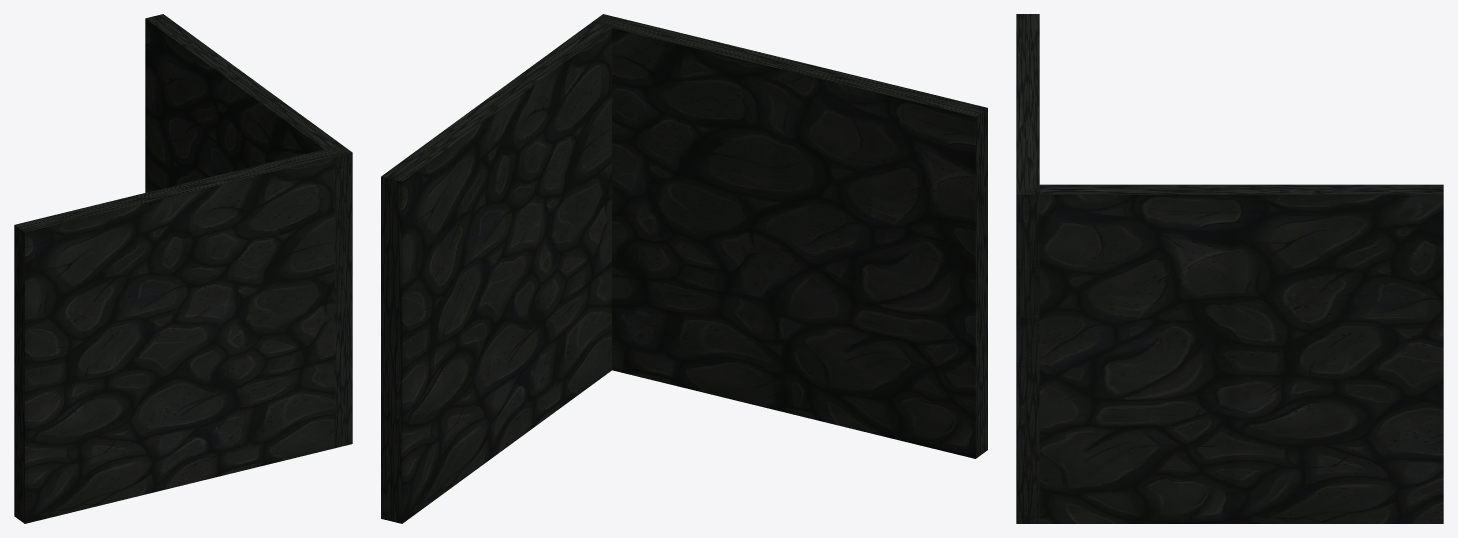
The model's file is stone_corner_outer_90.glb.
3 renders of one model, left to right at view 1: azimuth 30°, elevation 25°; view 2: azimuth 150°, elevation 25°; view 3: azimuth 270°, elevation 25°, orthographic. The views are drawn at different scales.
Parts seen in each view (by area): view 1: stone_corner_outer_90, _MeshInstance3D_2507; view 2: stone_corner_outer_90, _MeshInstance3D_2507; view 3: _MeshInstance3D_2507, stone_corner_outer_90.
Part boxes in pixels (bbox=[...]): stone_corner_outer_90: bbox=[14, 145, 351, 523]; _MeshInstance3D_2507: bbox=[145, 14, 352, 448]; stone_corner_outer_90: bbox=[591, 14, 987, 458]; _MeshInstance3D_2507: bbox=[381, 14, 623, 523]; _MeshInstance3D_2507: bbox=[1016, 184, 1443, 523]; stone_corner_outer_90: bbox=[1016, 14, 1039, 523].
Bounding box in the file's own units: 4 × 3.4 × 4.
Materials: 1 (1 with a texture image).
